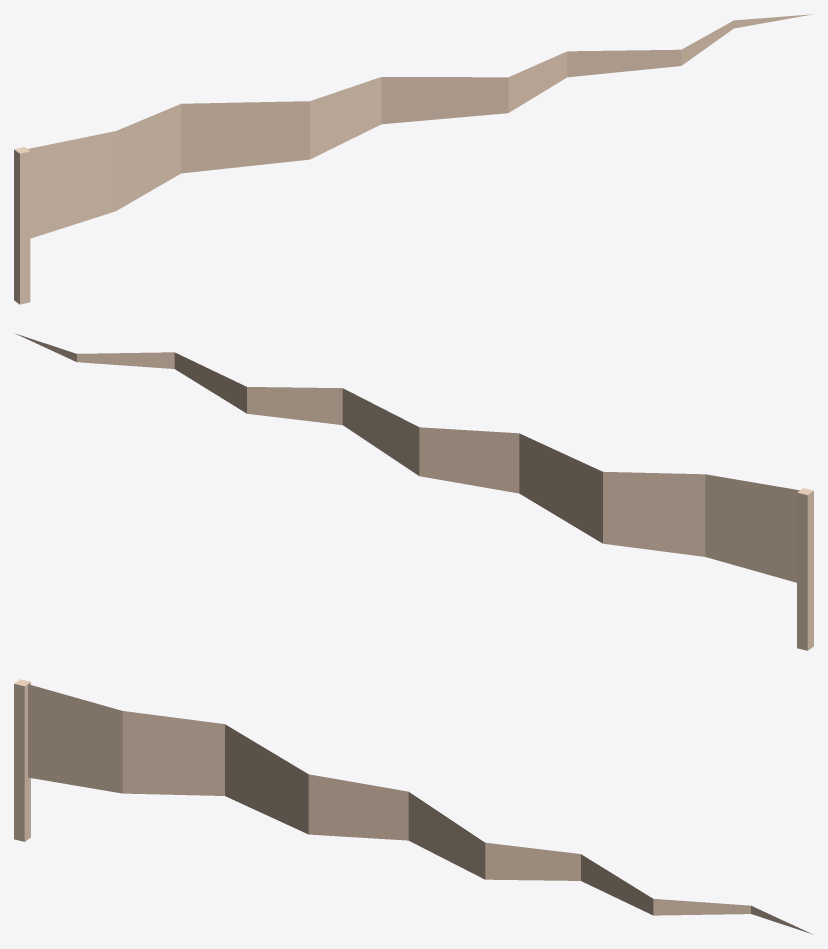
File: Abstract_Castle_Flag_Beige_02.fbx
3 renders of one model, top to bottom at view 1: azimuth 30°, elevation 25°; view 2: azimuth 150°, elevation 25°; view 3: azimuth 330°, elevation 25°, orthographic. The views are drawn at different scales.
Visible parts, largest first — view 1: Abstract_Castle_Flag_Beige_02; view 2: Abstract_Castle_Flag_Beige_02; view 3: Abstract_Castle_Flag_Beige_02.
Part boxes in pixels (x1,y1,x2,y2): Abstract_Castle_Flag_Beige_02: [14, 14, 812, 304]; Abstract_Castle_Flag_Beige_02: [15, 333, 813, 650]; Abstract_Castle_Flag_Beige_02: [14, 679, 812, 934].
Bounding box in the file's own units: 286 × 52.59 × 26.71.
